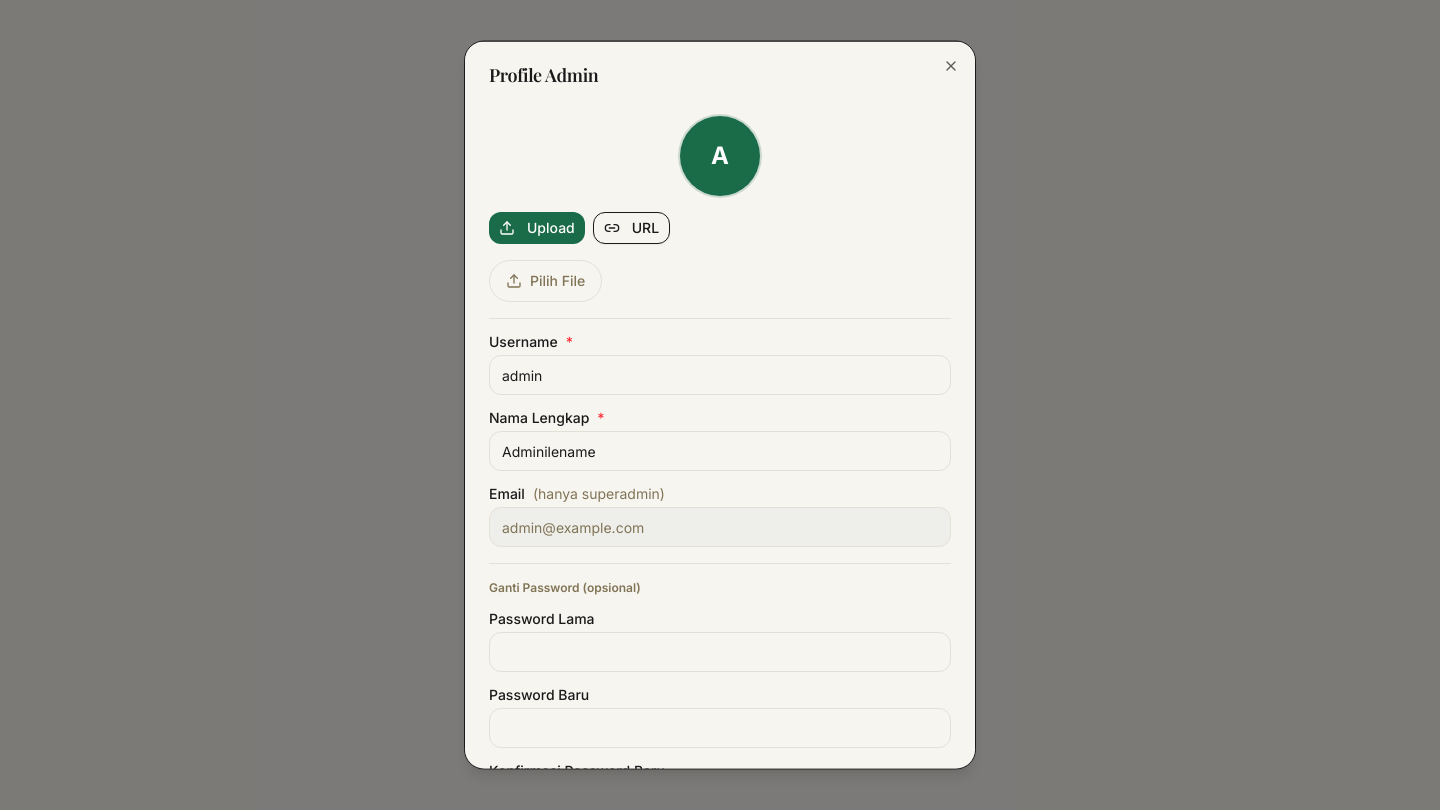
Scenario: ProfileModal — proteksi perubahan belum disimpan › menandai kolom yang kosong dan memfocus kolom pertama
The width and height of the screenshot is (1440, 810).
Clear the field labelled "Nama Lengkap *" at (720, 450), box 489,430 -> 951,470
(page scrolled)
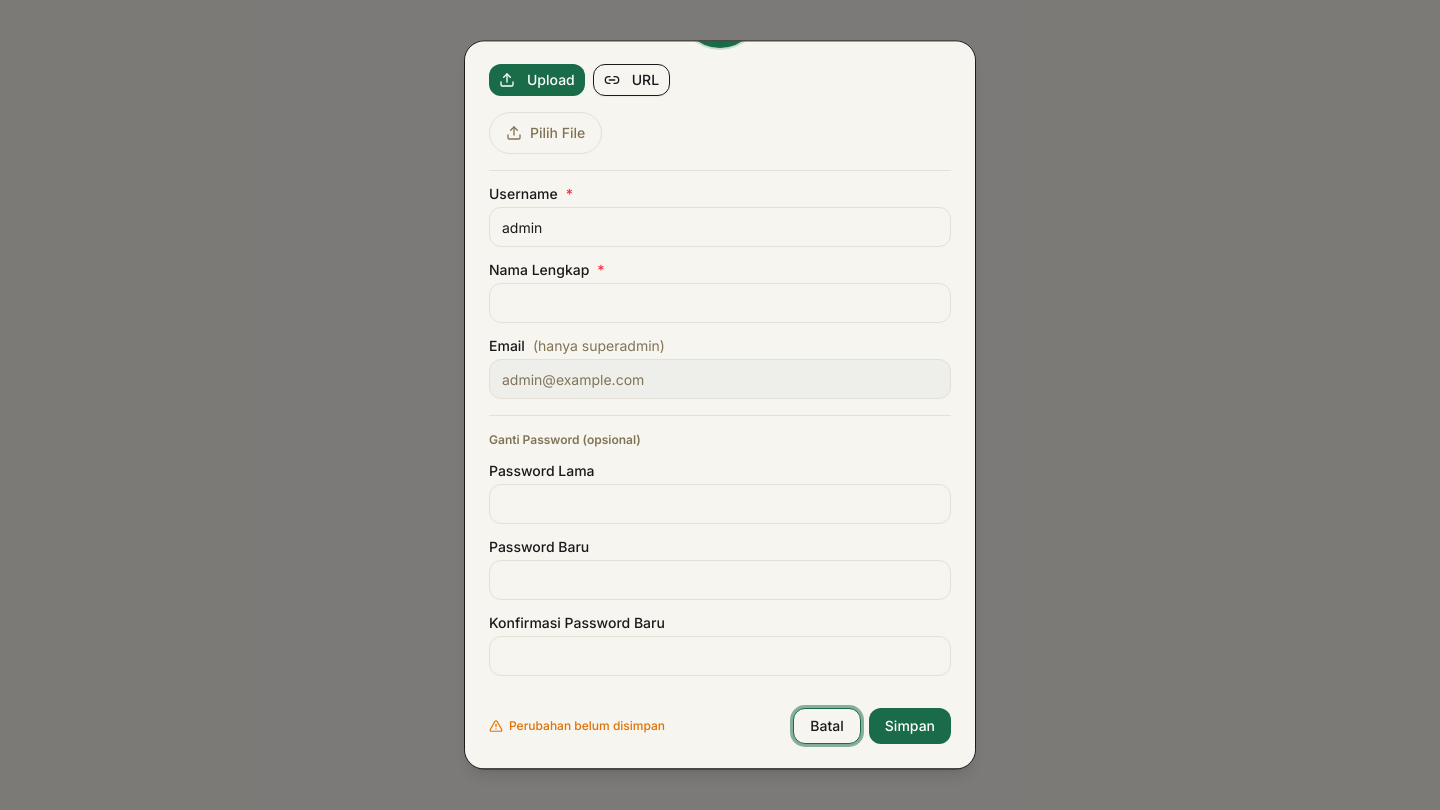
Click the button "Simpan" at (910, 726), box 869,708 -> 951,744
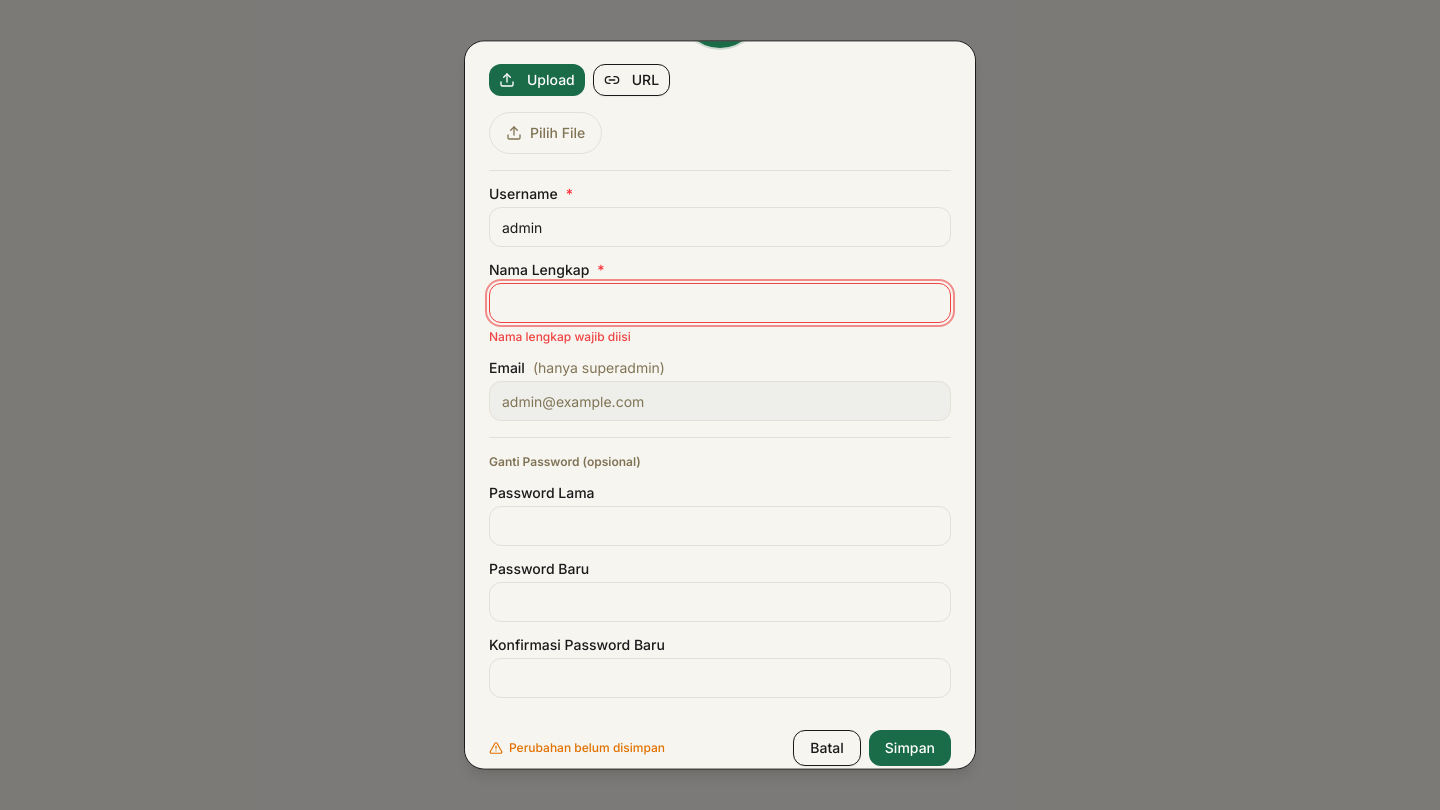
expect the text "Nama lengkap wajib diisi" is shown: met, box 489,330 -> 631,344
